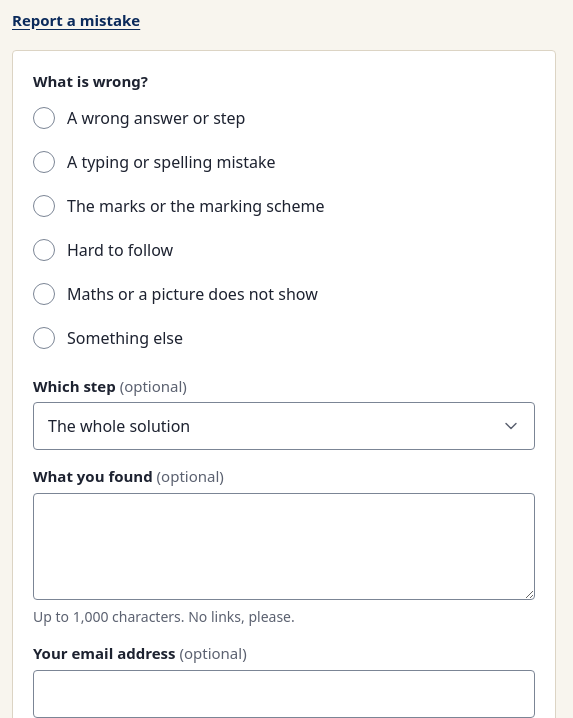
Test: ReportMistake › sends the paper, the question, the step, the print run and what is wrong, then thanks the reader
Step 1. Click the radio button labelled "A wrong answer or step" → (44, 118), box 33,107 -> 55,129
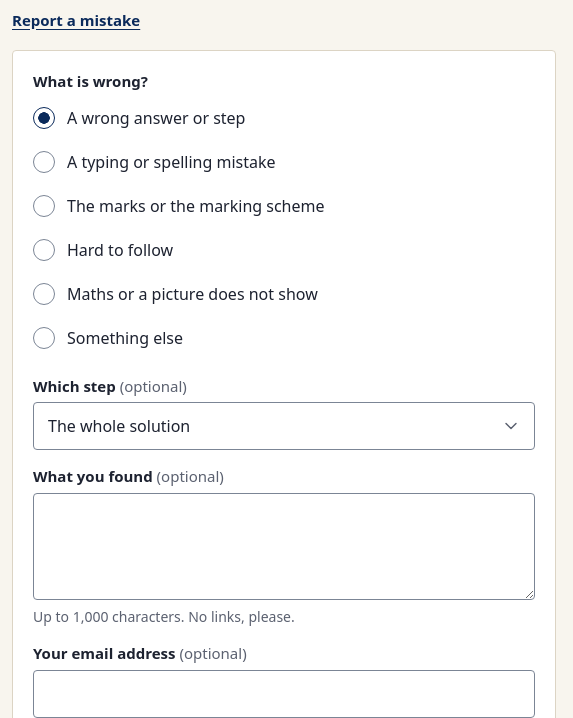
Step 2. Select "Step 2" in the dropdown labelled "Which step (optional)" → (284, 426), box 33,402 -> 535,450
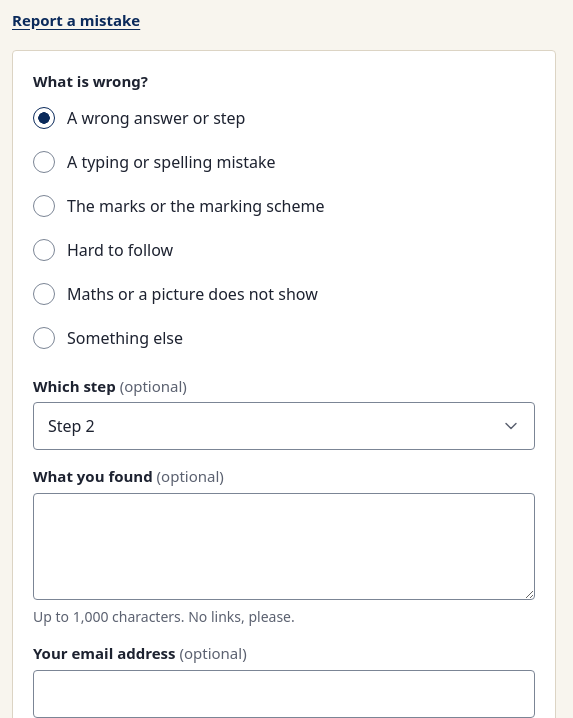
Step 3. Type "6/12 is 0.5 A, not 5 A." into the text box labelled "What you found (optional)" → (284, 547), box 33,493 -> 535,600
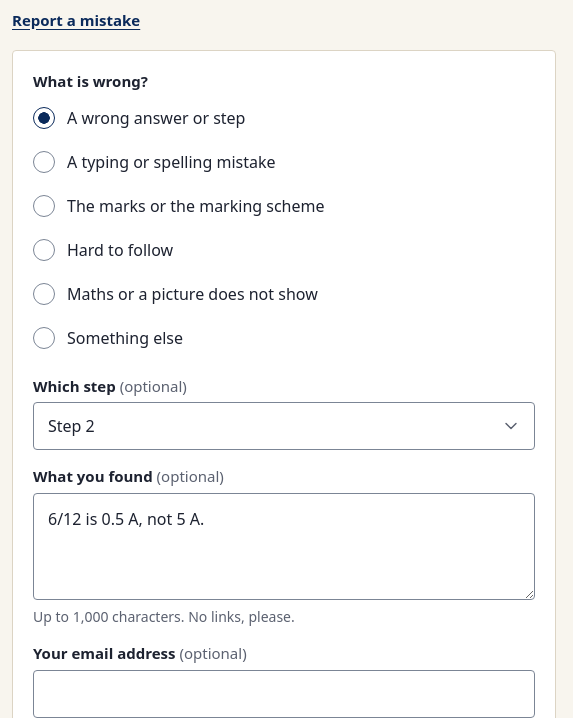
Step 4. Type " reader@example.com " into the field labelled "Your email address (optional)" → (284, 694), box 33,670 -> 535,717
(page scrolled)
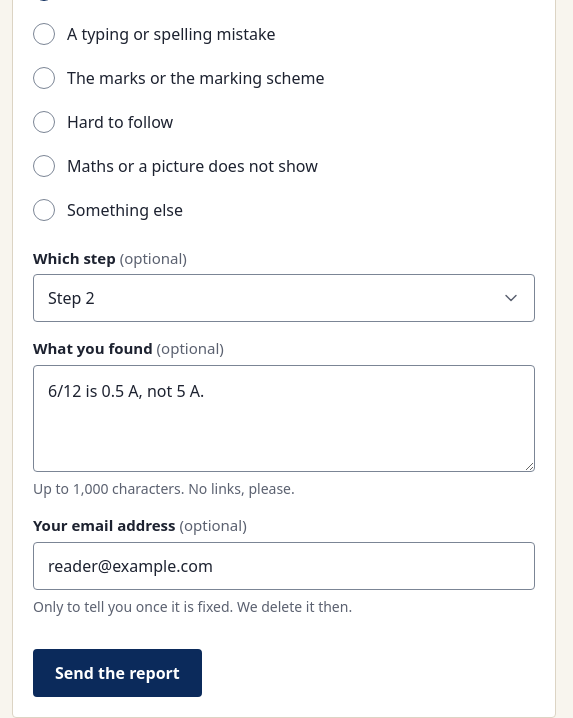
Step 5. Click the button "Send the report" → (117, 673), box 33,649 -> 202,697
(page scrolled)
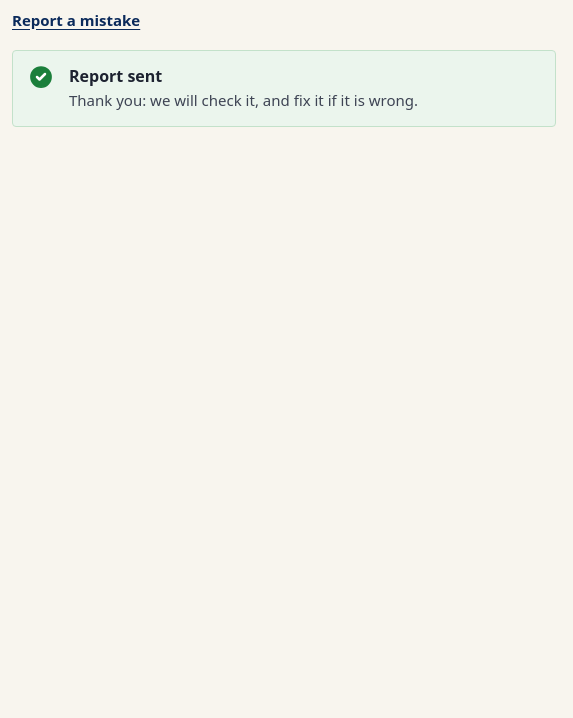
Result: the text "Thank you: we will check it, and fix it if it is wrong." is shown at 69,90 -> 418,110
